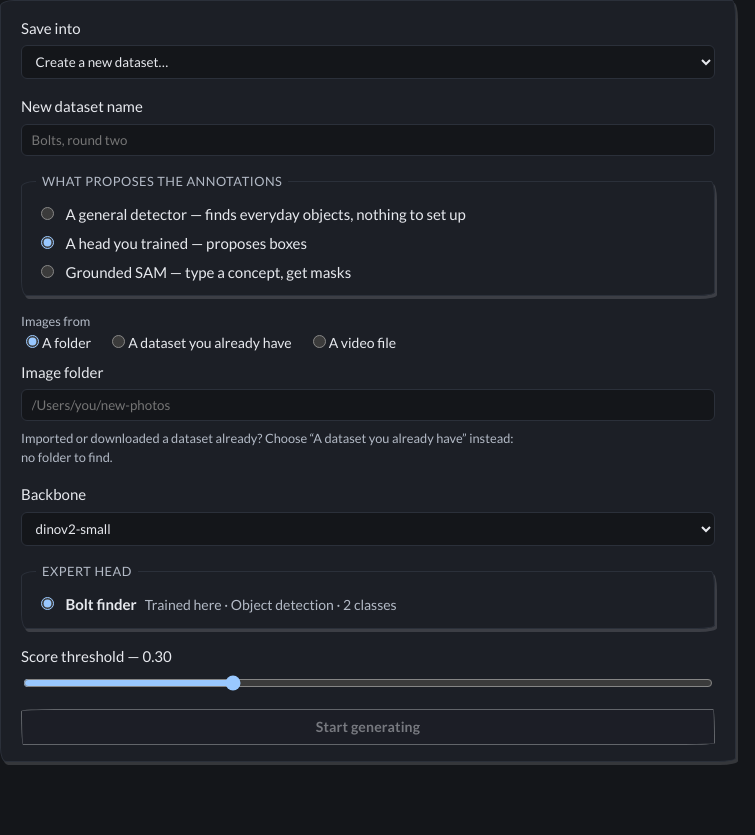
Test: a prompted detector in foundation mode (doc 66) › shows the prompt field for a prompted detector
Expected: the radio button labelled "Bolt finder Trained here · Object detection · 2 classes" is shown, 41,597 -> 54,610
Click the radio button labelled "general detector".
click(48, 214)  # box 41,207 -> 54,220
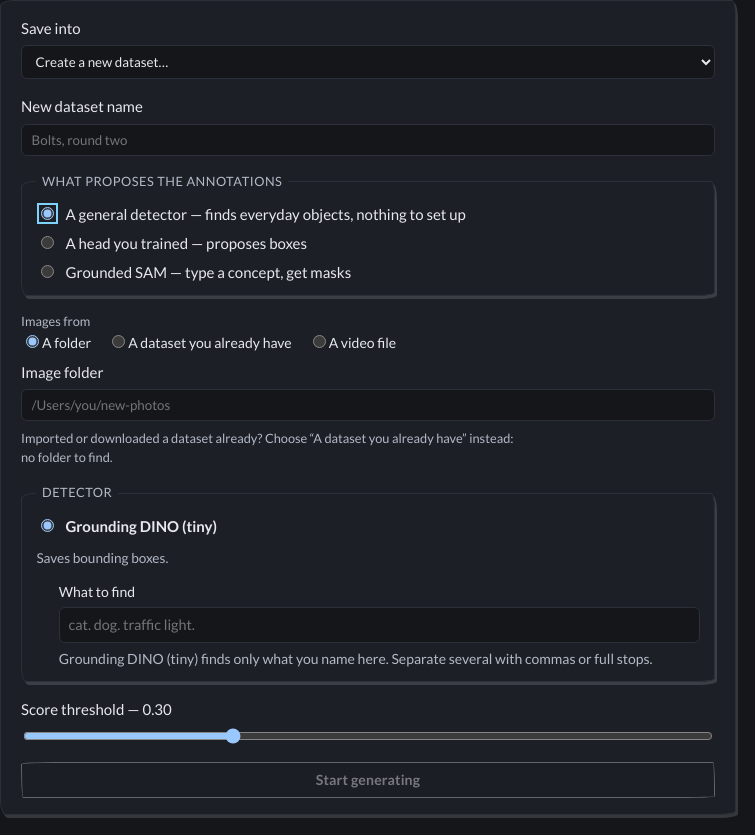
Now the field labelled "What to find" is shown, box 59,607 -> 700,643
